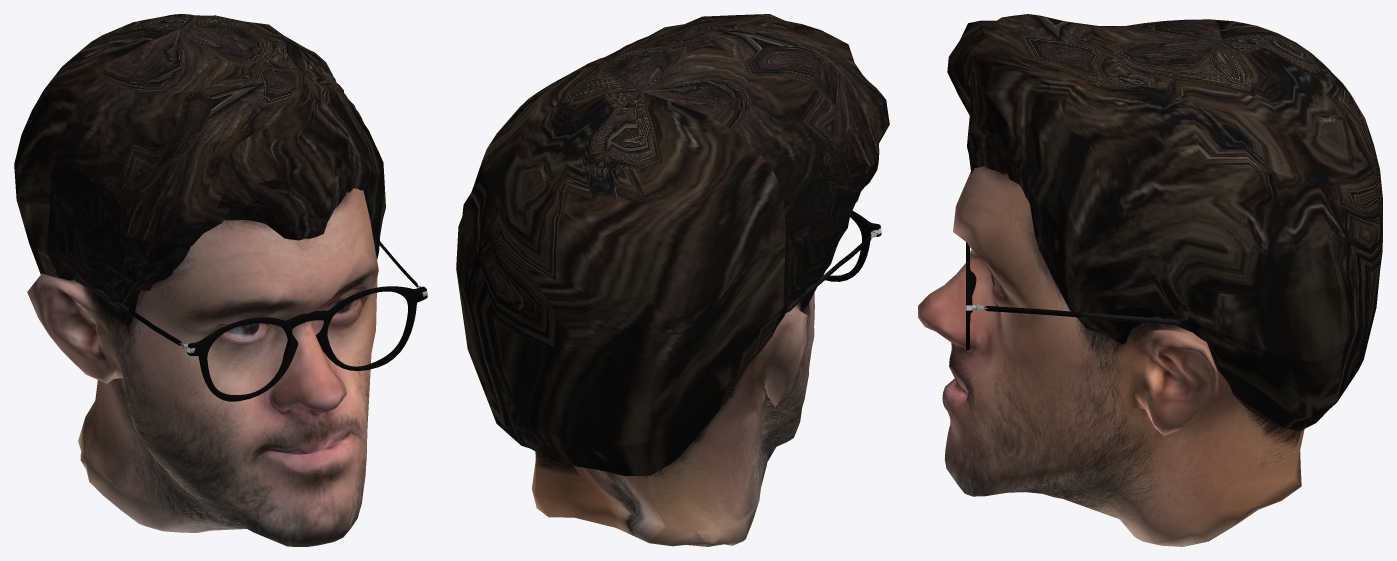
The model's file is meHeadHair.glb.
3 views of the same model, side by side, from view 1: azimuth 30°, elevation 25°; view 2: azimuth 150°, elevation 25°; view 3: azimuth 270°, elevation 25° (orthographic). The views are drawn at different scales.
Parts seen in each view (by area): view 1: FBHead, Sphere, BezierCurve; view 2: Sphere, FBHead, BezierCurve; view 3: Sphere, FBHead, BezierCurve.
Part boxes in pixels (left/top/right/bottom): FBHead: left=27, top=188, right=378, bottom=546; Sphere: left=14, top=14, right=385, bottom=326; BezierCurve: left=73, top=241, right=427, bottom=401; Sphere: left=456, top=14, right=889, bottom=476; FBHead: left=532, top=293, right=814, bottom=546; BezierCurve: left=785, top=210, right=881, bottom=312; Sphere: left=947, top=14, right=1382, bottom=430; FBHead: left=918, top=166, right=1304, bottom=546; BezierCurve: left=966, top=242, right=1185, bottom=350.
Size of the model in its own units: 1.49 by 2 by 1.75.
Materials: 4 (1 with a texture image).
